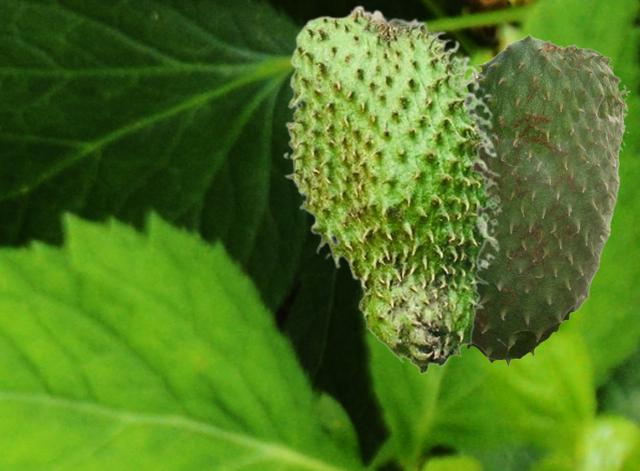guyabano: (282, 4, 503, 374), (465, 33, 629, 365)
